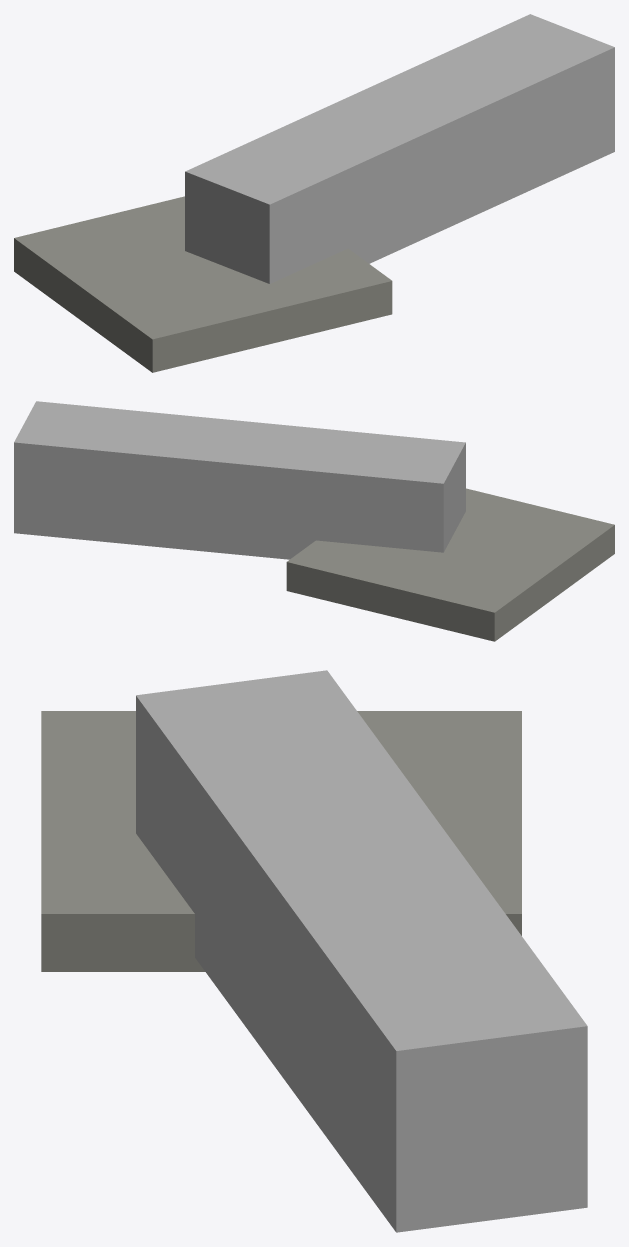
File: SM_poste_km_v5_LOD0.fbx
3 views of the same model, one above another, from view 1: azimuth 30°, elevation 25°; view 2: azimuth 150°, elevation 25°; view 3: azimuth 270°, elevation 25° (orthographic). The views are drawn at different scales.
Visible parts, largest first — view 1: SM_bloques.poste_km_v5_LOD0; view 2: SM_bloques.poste_km_v5_LOD0; view 3: SM_bloques.poste_km_v5_LOD0.
Part boxes in pixels (x1,y1,x2,y2): SM_bloques.poste_km_v5_LOD0: (14, 14, 614, 372); SM_bloques.poste_km_v5_LOD0: (14, 401, 614, 641); SM_bloques.poste_km_v5_LOD0: (41, 670, 587, 1232).
Size of the model in its own units: 1.41 by 0.27 by 0.682.
